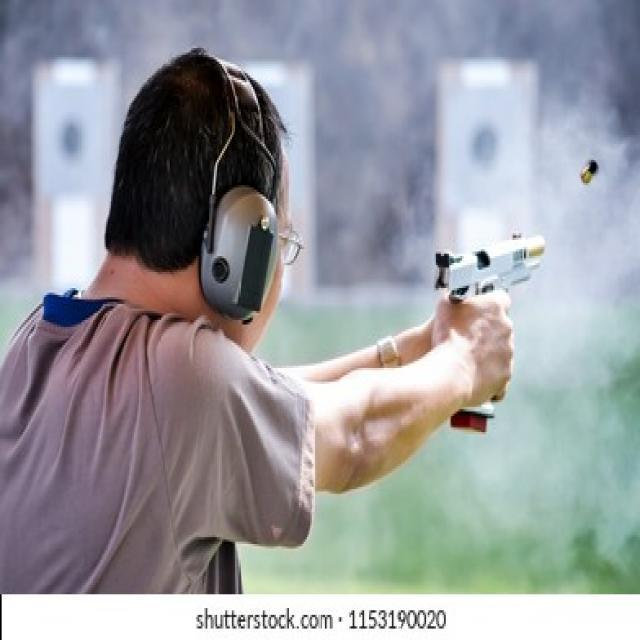gun: (438, 240, 567, 433)
